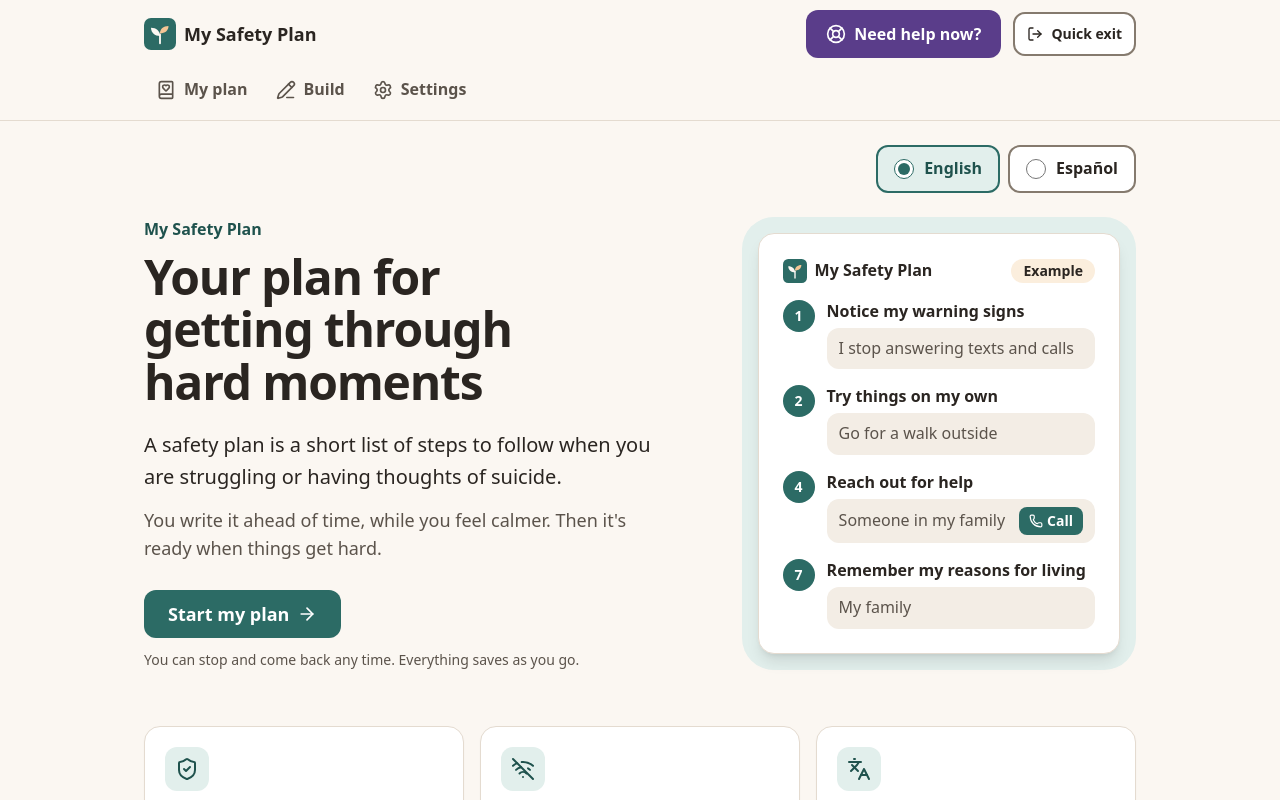
Scenario: App › switches the whole interface to Spanish
Step 1. Click the radio button labelled "Español" → (1036, 169), box 1026,159 -> 1046,179
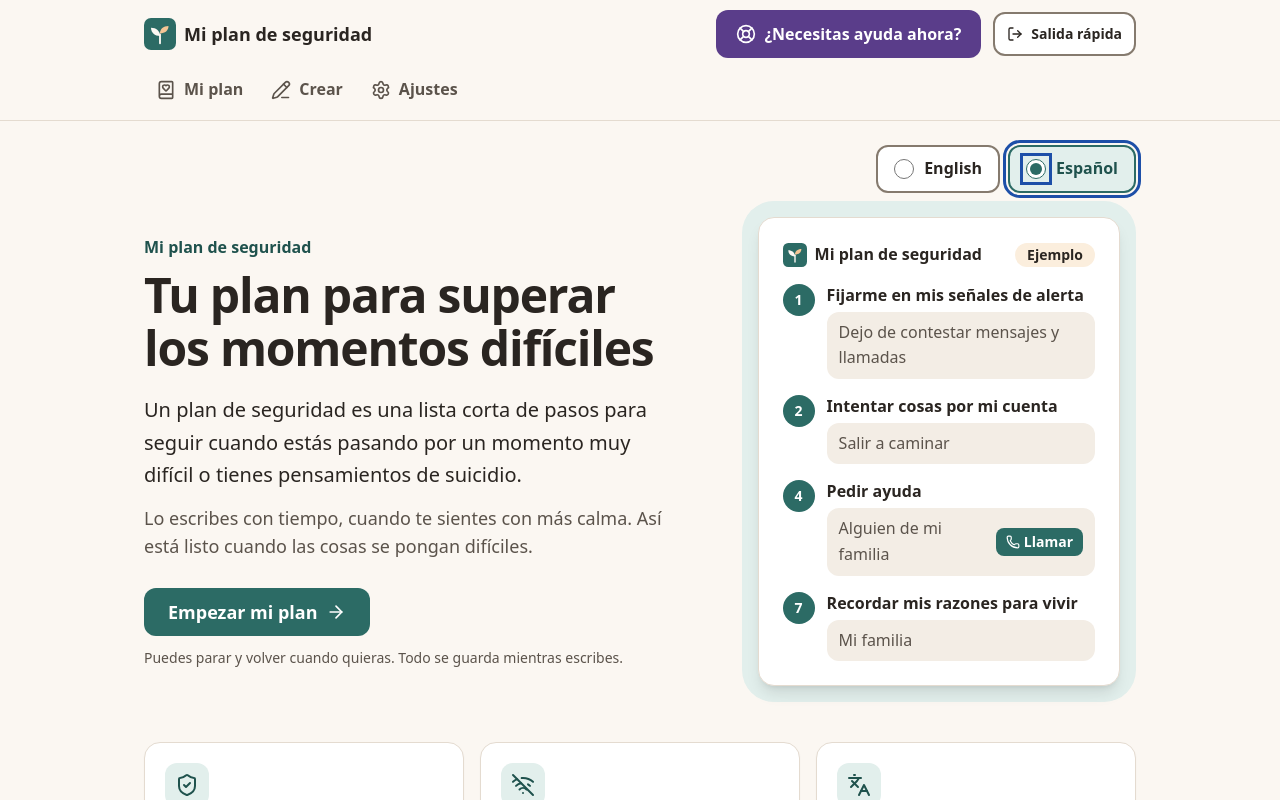
expect the heading "Tu plan para superar los momentos difíciles" is shown: met, box 144,269 -> 678,374
expect the button "¿Necesitas ayuda ahora?" is shown: met, box 716,10 -> 981,58
